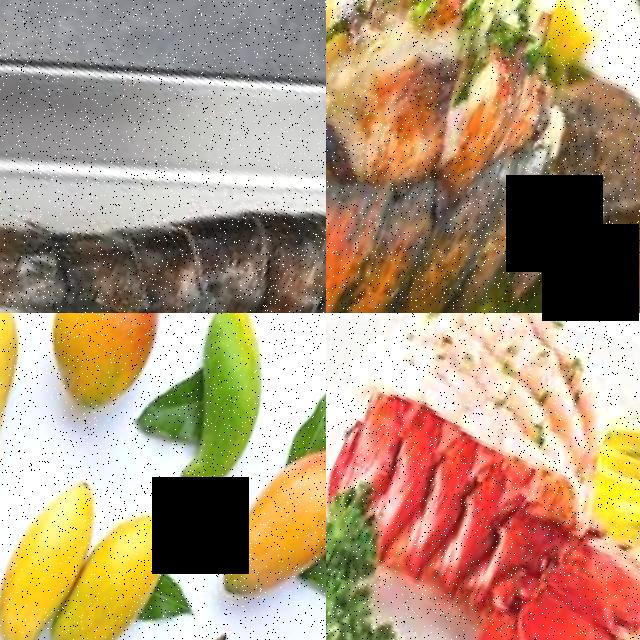lobster tails: (326, 0, 640, 313), (0, 40, 326, 313), (326, 376, 640, 640)
mango: (146, 313, 308, 501), (215, 401, 326, 624), (48, 474, 195, 640), (0, 450, 121, 640), (19, 313, 192, 428), (57, 579, 263, 640), (0, 313, 65, 492)
